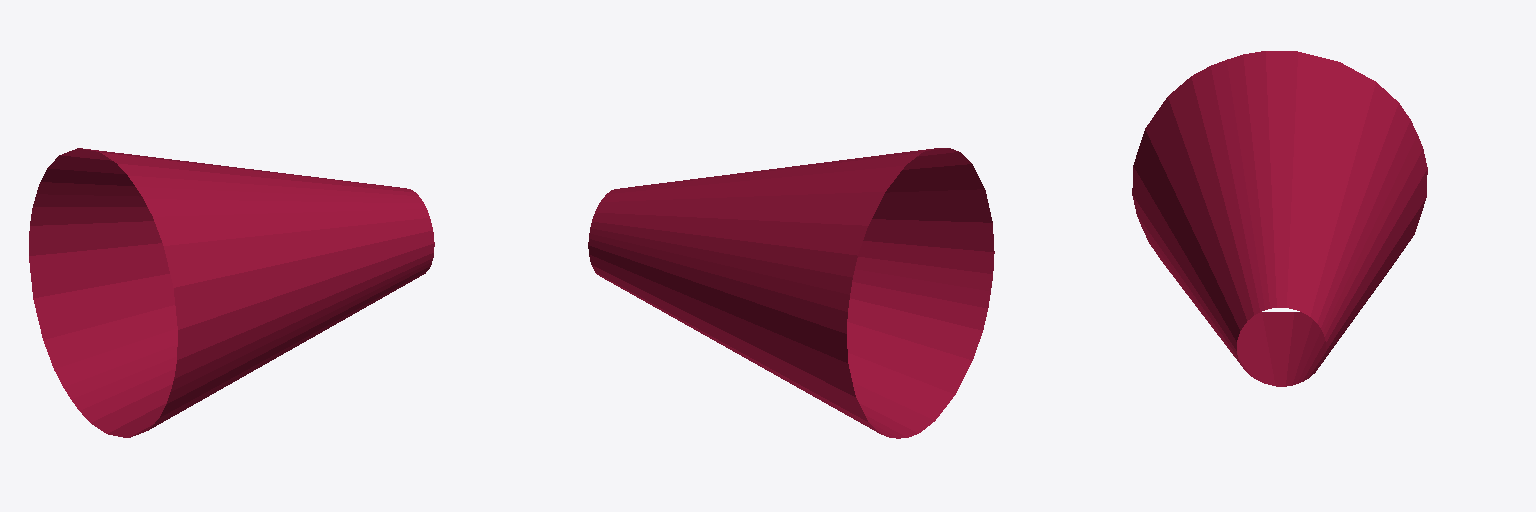
The model's file is tunnel_thin_2.obj.
3 views of the same model, side by side, from view 1: azimuth 30°, elevation 25°; view 2: azimuth 150°, elevation 25°; view 3: azimuth 270°, elevation 25° (orthographic).
Visible parts, largest first — view 1: Surface; view 2: Surface; view 3: Surface.
Part boxes in pixels (bbox=[...]): Surface: bbox=[29, 148, 434, 437]; Surface: bbox=[588, 148, 994, 438]; Surface: bbox=[1132, 51, 1427, 386].
Bounding box in the file's own units: 9.89 × 7.98 × 7.99.